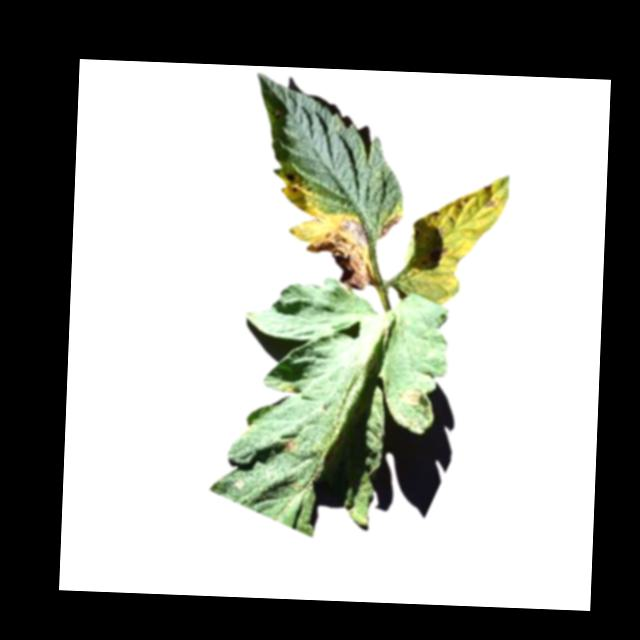Early_blight: (302, 214, 374, 294), (375, 211, 402, 239), (480, 180, 498, 211), (284, 166, 309, 187), (400, 386, 426, 404), (282, 436, 299, 453)
